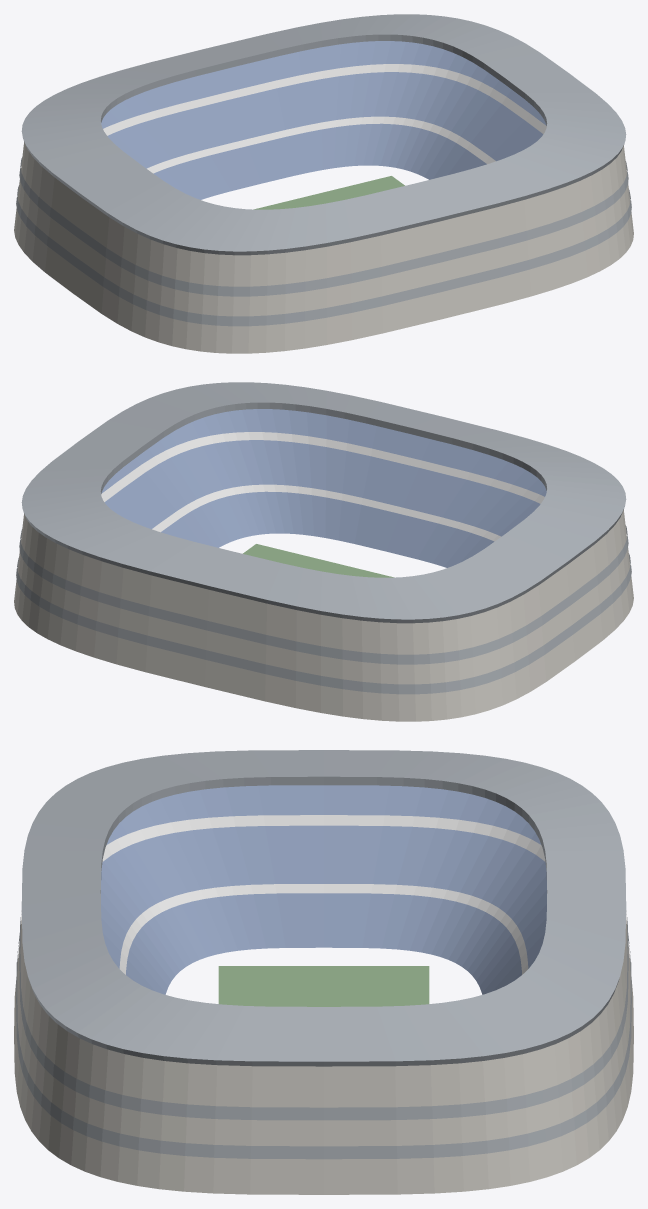
Rendered from bernabeu.glb.
3 renders of one model, top to bottom at view 1: azimuth 30°, elevation 25°; view 2: azimuth 150°, elevation 25°; view 3: azimuth 270°, elevation 25°, orthographic. The views are drawn at different scales.
Bounding box in the file's own units: 244 × 51 × 200.
